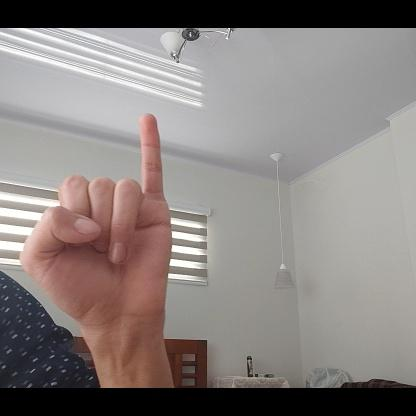I: (19, 112, 174, 321)
